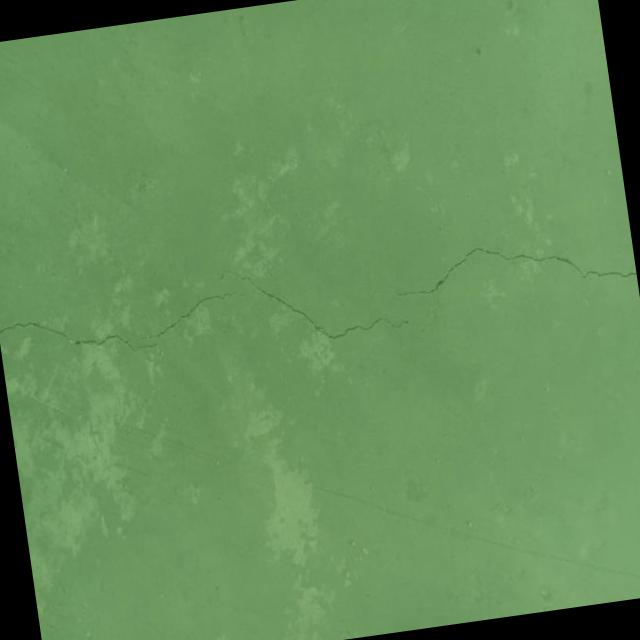crack: (202, 244, 429, 362), (377, 226, 638, 313), (0, 288, 261, 371)
